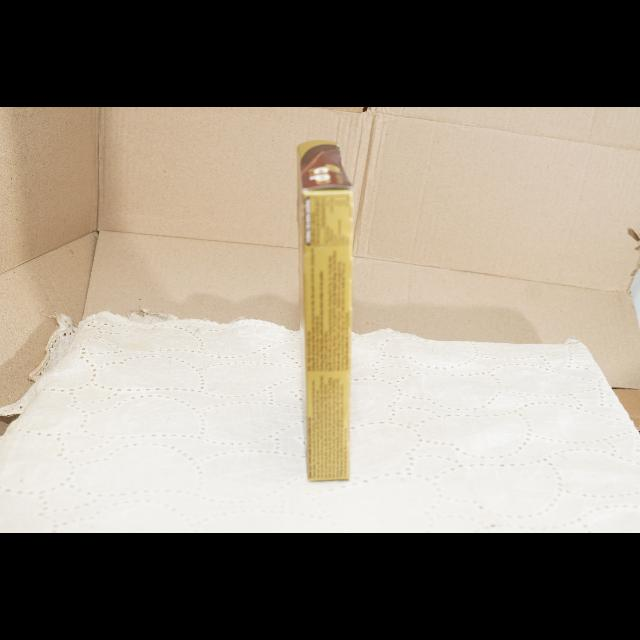banh_toppo_socola: (298, 141, 353, 481)
